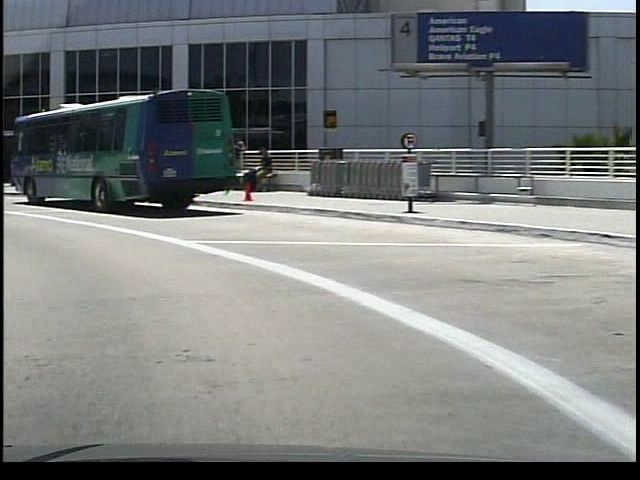person: (242, 144, 270, 195)
